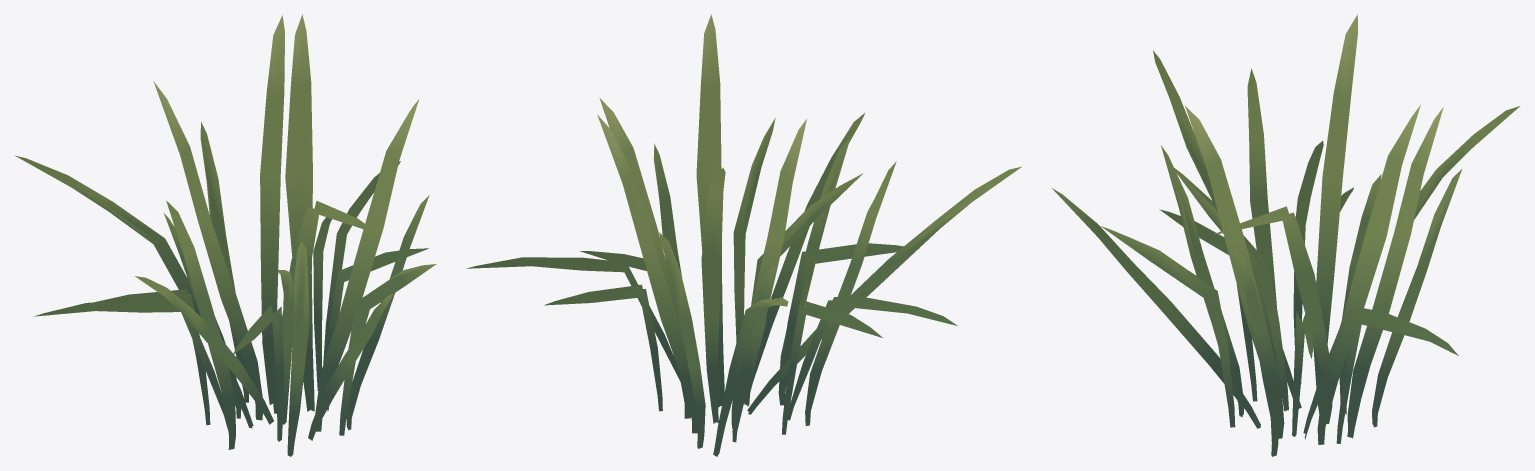
Rendered from grass-fine-tuft.glb.
3 views of the same model, side by side, from view 1: azimuth 30°, elevation 25°; view 2: azimuth 150°, elevation 25°; view 3: azimuth 270°, elevation 25° (orthographic). The views are drawn at different scales.
Visible parts, largest first — view 1: grass-fine-tuft runtime mesh; view 2: grass-fine-tuft runtime mesh; view 3: grass-fine-tuft runtime mesh.
Part boxes in pixels (bbox=[...]): grass-fine-tuft runtime mesh: bbox=[15, 14, 436, 456]; grass-fine-tuft runtime mesh: bbox=[466, 14, 1021, 456]; grass-fine-tuft runtime mesh: bbox=[1052, 14, 1519, 456].
Bounding box in the file's own units: 0.5181 × 0.42 × 0.474.
1 material, 1 textured.
